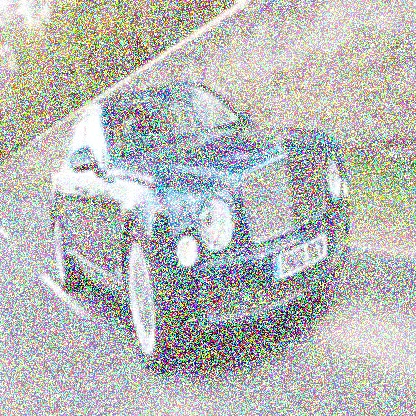Vehicle: (46, 77, 355, 373)
